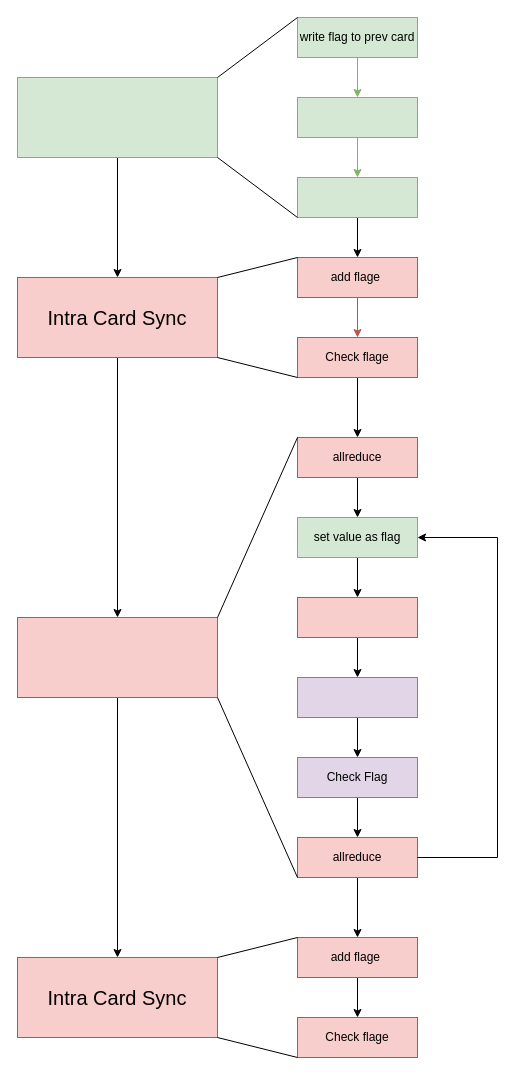
The diagram is 523 pixels wide and 1076 high, and some of its shapes have lost their labels. Here are the shapes that lost their labels. From the top down, the centre of each, then its label:
At (x=117, y=117): "TCCL Pre Work".
At (x=357, y=117): "check the next card flag".
At (x=357, y=197): "set src address set dst address".
At (x=357, y=617): "P2P write data".
At (x=117, y=657): "TCCL Inter Card Allreduce OP".
At (x=357, y=697): "P2P write flag".
